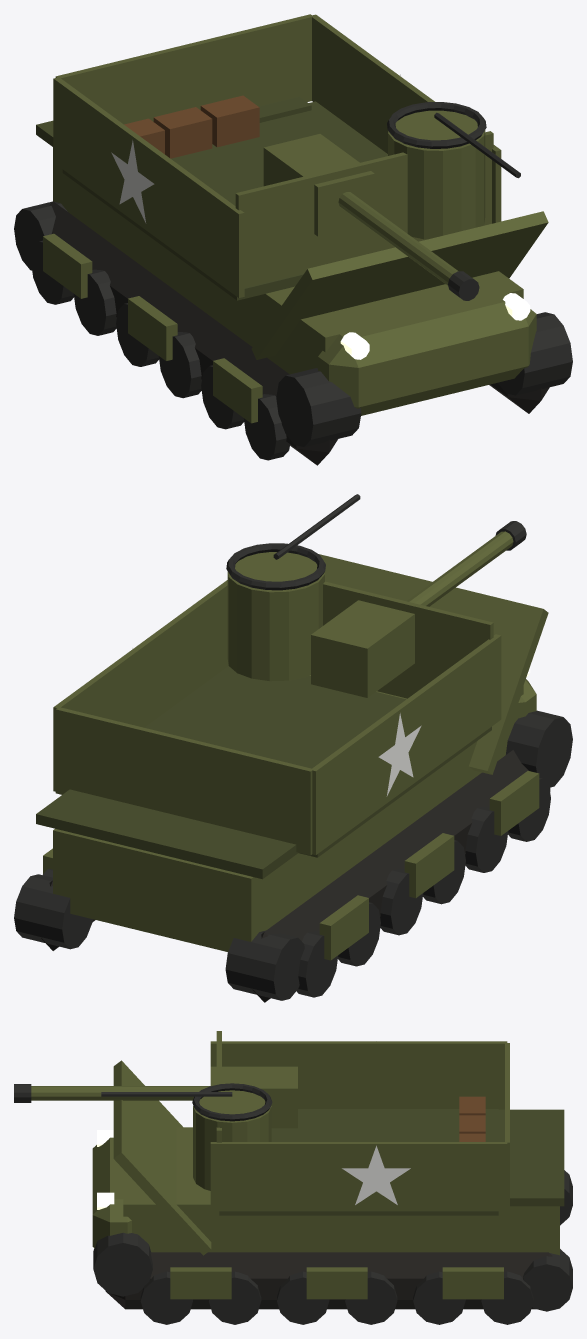
The model's file is m7_priest.glb.
3 views of the same model, one above another, from view 1: azimuth 30°, elevation 25°; view 2: azimuth 150°, elevation 25°; view 3: azimuth 270°, elevation 25° (orthographic). The views are drawn at different scales.
Visible parts, largest first — view 1: Casco.001; view 2: Casco.001; view 3: Casco.001.
Part boxes in pixels (x1=…): Casco.001: x1=14, y1=14, x2=572, y2=465; Casco.001: x1=14, y1=494, x2=572, y2=1002; Casco.001: x1=14, y1=1031, x2=572, y2=1324.
Size of the model in its own units: 3.05 by 2.66 by 6.4.
